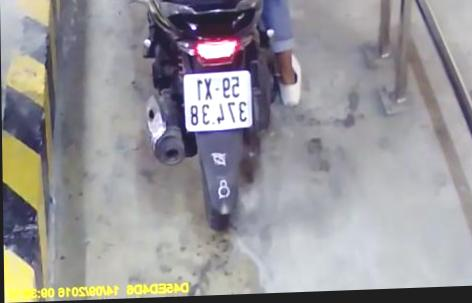License_Plate: (177, 65, 262, 142)
